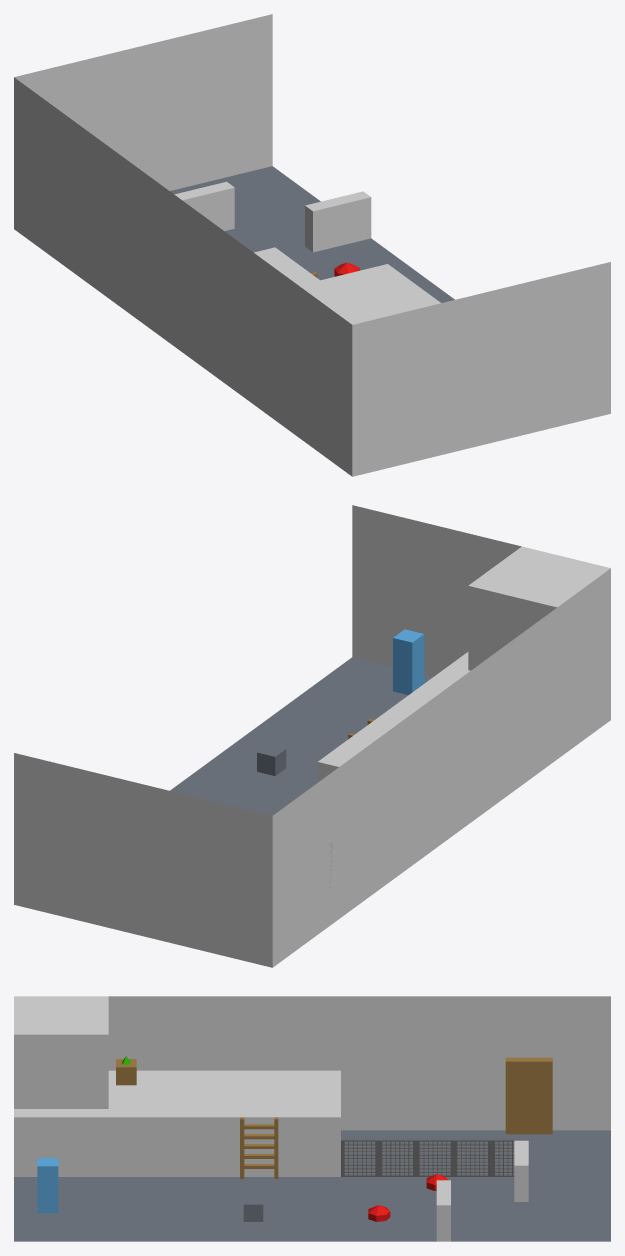
The picture shows the model from 3 angles, top to bottom: view 1: azimuth 30°, elevation 25°; view 2: azimuth 150°, elevation 25°; view 3: azimuth 270°, elevation 25°; orthographic projection. The views are drawn at different scales.
Parts seen in each view (by area): view 1: cuarto.003, puerta.010, pared.002, pared.003; view 2: cuarto.003, puerta.010, ninio.003, gato.003; view 3: cuarto.003, puerta.010, valla.001, puerta.009, escalera, ninio.003, pared.002, pared.003, cajon.006, gato.003.
Boxes of the visible parts, x1,y1,x2,y2 form: cuarto.003: (14, 14, 610, 476); puerta.010: (167, 247, 440, 476); pared.002: (305, 191, 371, 252); pared.003: (174, 181, 234, 230); cuarto.003: (14, 505, 604, 967); puerta.010: (317, 546, 610, 855); ninio.003: (393, 629, 424, 694); gato.003: (257, 744, 286, 775); cuarto.003: (14, 996, 610, 1241); puerta.010: (14, 996, 340, 1176); valla.001: (341, 1139, 528, 1176); puerta.009: (505, 1057, 552, 1134); escalera: (240, 1117, 278, 1178); ninio.003: (37, 1158, 58, 1213); pared.002: (436, 1180, 450, 1241); pared.003: (514, 1140, 528, 1201); cajon.006: (116, 1059, 136, 1085); gato.003: (243, 1197, 263, 1221).
Size of the model in its own units: 658 by 369 by 1491.
